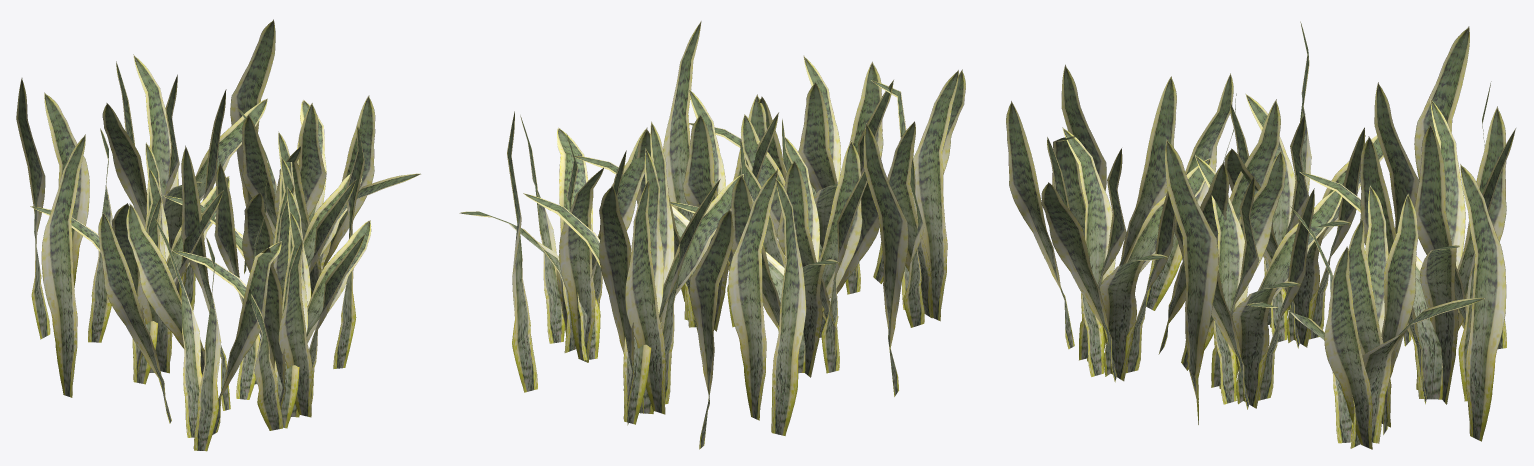
File: plant k(region).dae
3 renders of one model, left to right at view 1: azimuth 30°, elevation 25°; view 2: azimuth 150°, elevation 25°; view 3: azimuth 270°, elevation 25°, orthographic. The views are drawn at different scales.
Visible parts, largest first — view 1: plant_k_region_Form25, plant_k_region_Group4_Form25, plant_k_region_Group4_plant_k; view 2: plant_k_region_Form25, plant_k_region_Group4_Form25, plant_k_region_Group4_plant_k; view 3: plant_k_region_Group4_Form25, plant_k_region_Form25, plant_k_region_Group4_plant_k.
Boxes of the visible parts, bbox=[...] form: plant_k_region_Form25: bbox=[16, 19, 364, 451]; plant_k_region_Group4_Form25: bbox=[102, 61, 375, 428]; plant_k_region_Group4_plant_k: bbox=[30, 54, 420, 417]; plant_k_region_Form25: bbox=[507, 21, 965, 449]; plant_k_region_Group4_Form25: bbox=[520, 55, 883, 424]; plant_k_region_Group4_plant_k: bbox=[459, 80, 893, 425]; plant_k_region_Group4_Form25: bbox=[1041, 98, 1506, 449]; plant_k_region_Form25: bbox=[1006, 21, 1506, 441]; plant_k_region_Group4_plant_k: bbox=[1062, 93, 1515, 448].
Bounding box in the file's own units: 61.41 × 44.34 × 67.67.
Materials: 1 (1 with a texture image).
